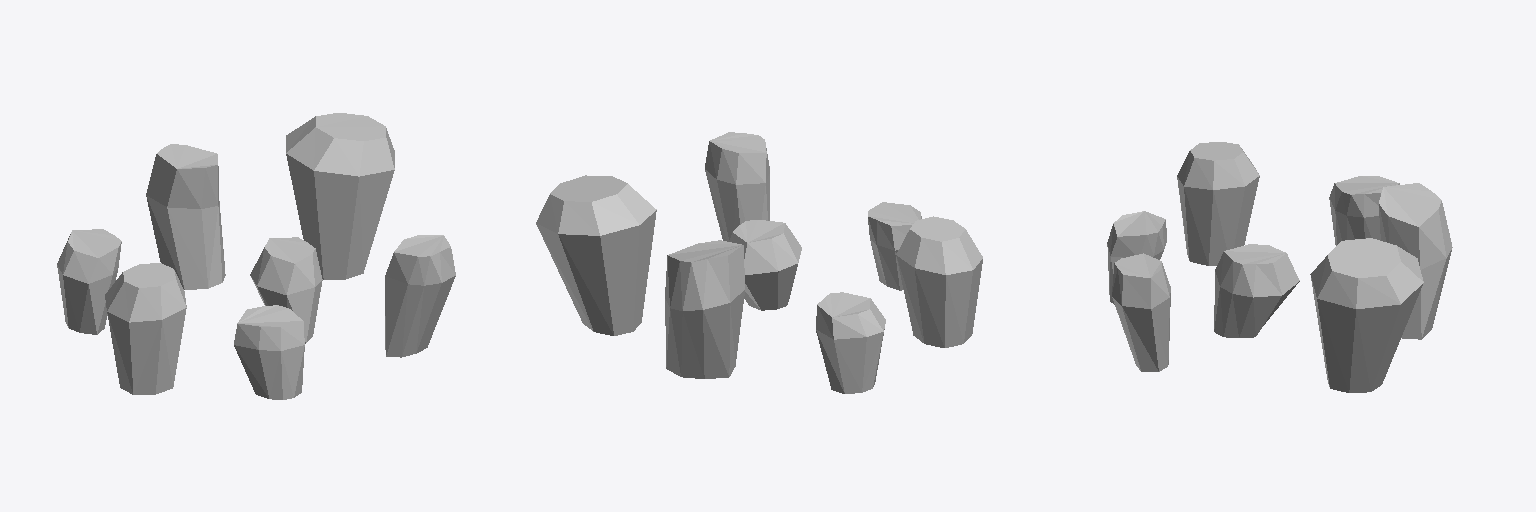
Rendered from Anemone_B_02_LOD2.obj.
The picture shows the model from 3 angles: view 1: azimuth 30°, elevation 25°; view 2: azimuth 150°, elevation 25°; view 3: azimuth 270°, elevation 25°; orthographic projection.
Parts seen in each view (by area): view 1: Anemone_B_02_LOD2_Cube.543; view 2: Anemone_B_02_LOD2_Cube.543; view 3: Anemone_B_02_LOD2_Cube.543.
Part boxes in pixels (x1,y1,x2,y2): Anemone_B_02_LOD2_Cube.543: (57,113,455,399); Anemone_B_02_LOD2_Cube.543: (536,132,982,393); Anemone_B_02_LOD2_Cube.543: (1107,142,1452,392).
Bounding box in the file's own units: 5.83 × 2.19 × 4.92.